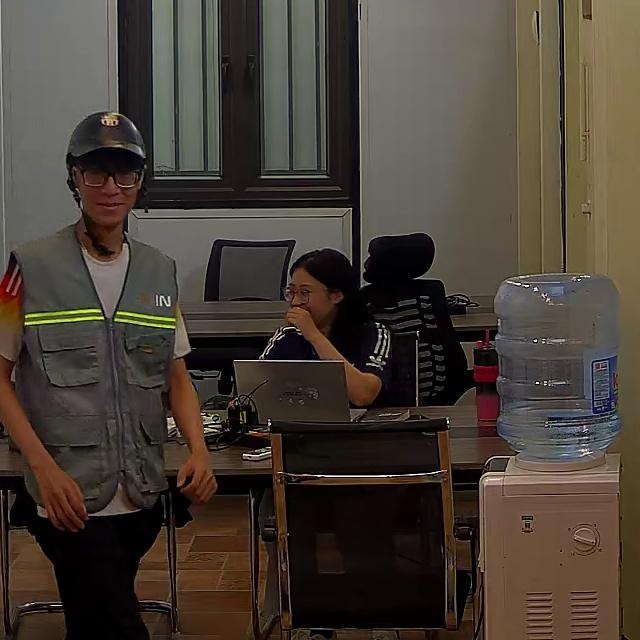helmet: (66, 111, 148, 164)
no_helmet: (288, 247, 369, 309)
none: (258, 319, 398, 408)
vest: (11, 235, 177, 509)
